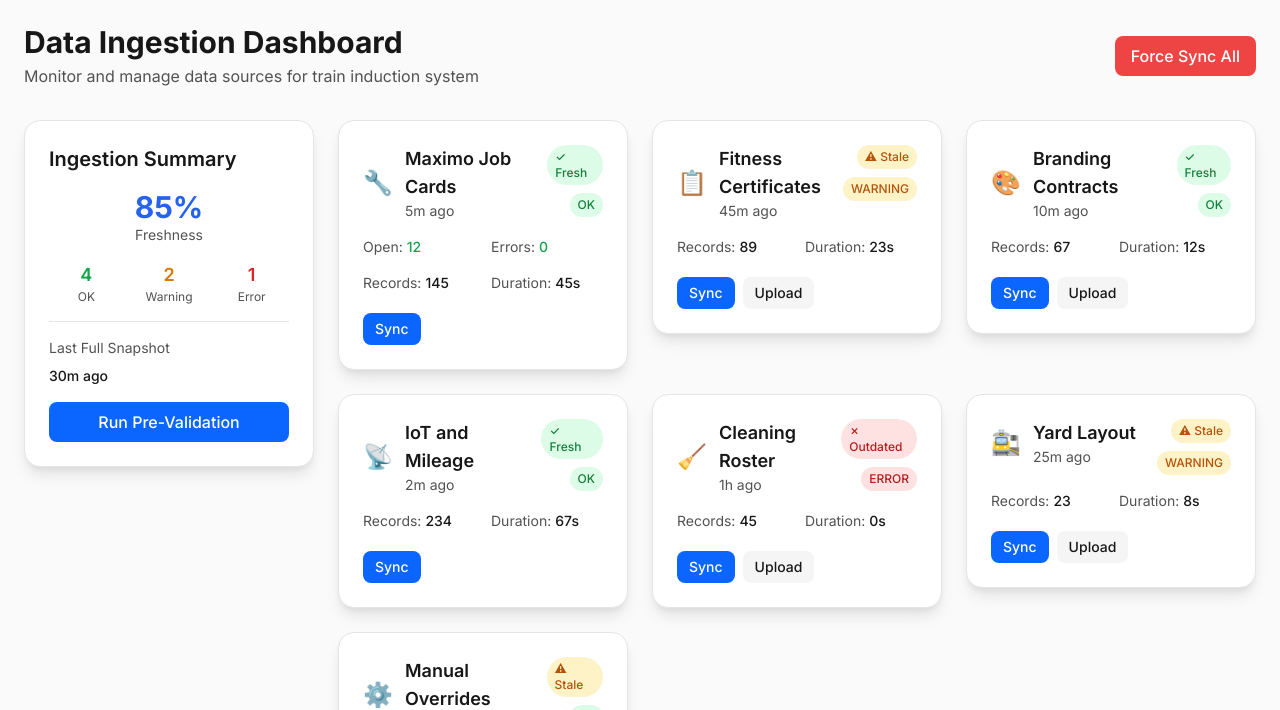
Test: DataIngestionPage › shows error information for failed sources
The image size is (1280, 710).
Expected: the text "Cleaning Roster" is shown, [719,422,796,471]
Click the text "Cleaning Roster" at x=797, y=501, box [652,394,942,608]
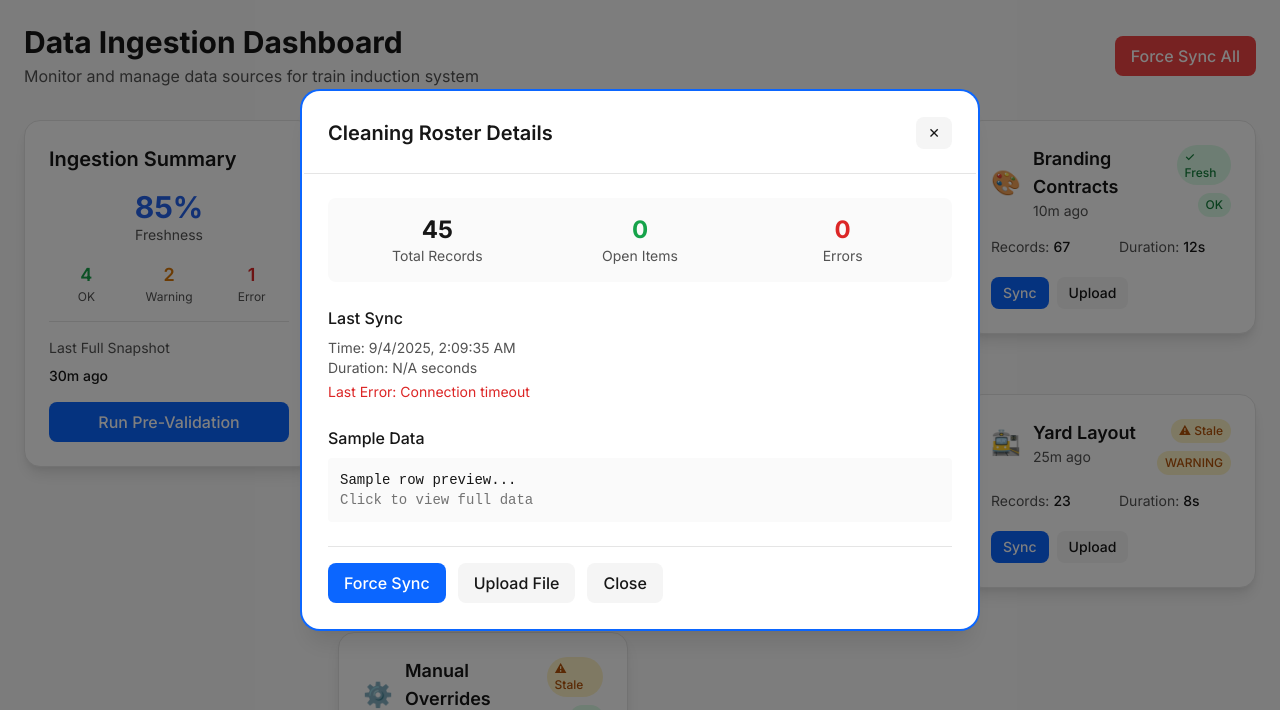
Now the heading "Cleaning Roster Details" is shown, box [328,119,553,147]
Now the text "Last Error: Connection timeout" is shown, box [328,383,530,400]
